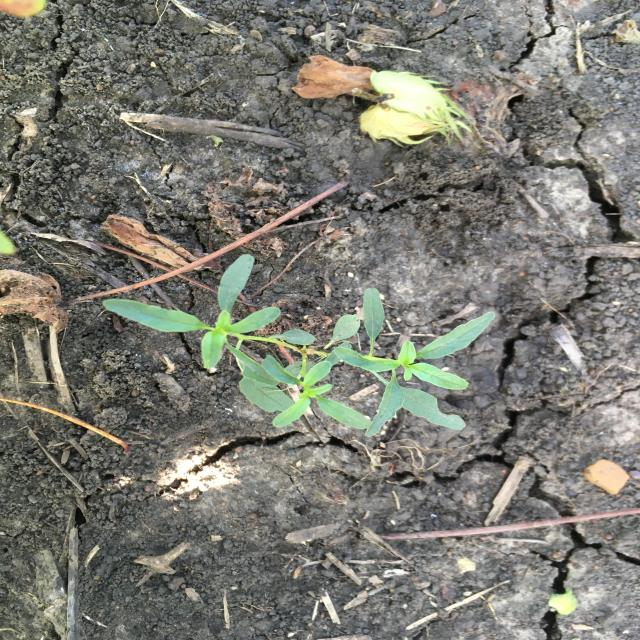Waterhemp: (100, 251, 498, 439)
